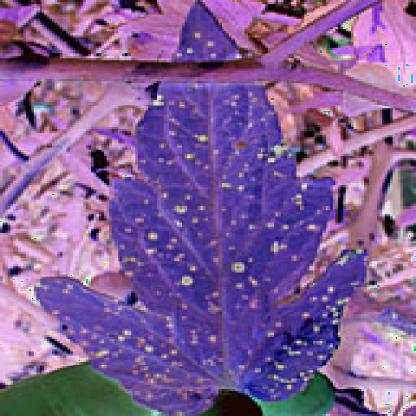tomato septoria leaf spot: (29, 4, 374, 408)
